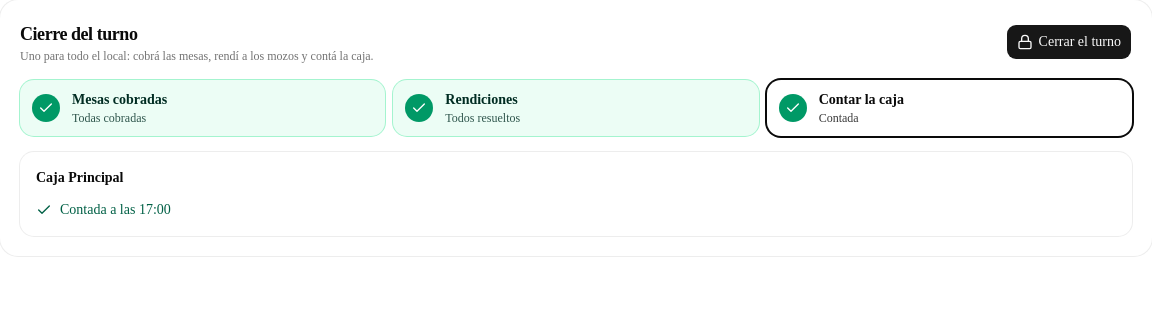
Test case: CierreDelTurno › con todo resuelto › «Cancelar» vuelve atrás sin cerrar
Expected: the text "Todas cobradas" is shown, x1=72 y1=111 x2=146 y2=125
Click the button at (1069, 42), box x1=1006 y1=24 x2=1132 y2=60
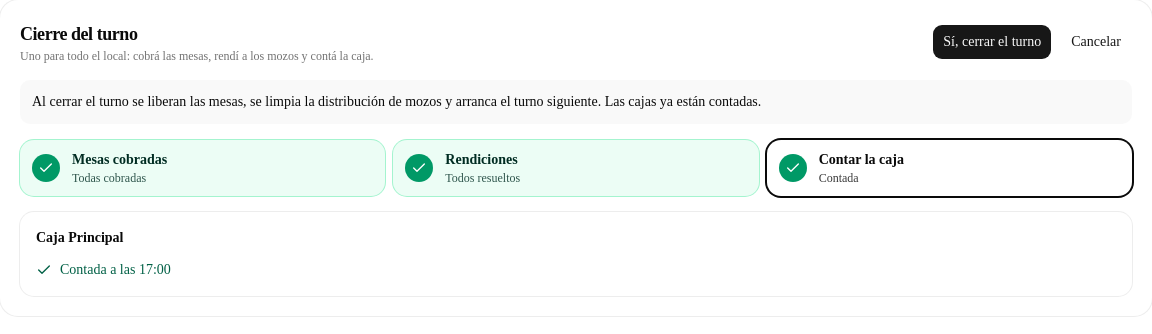
Click the button "Cancelar" at (1096, 42), box x1=1060 y1=26 x2=1132 y2=58
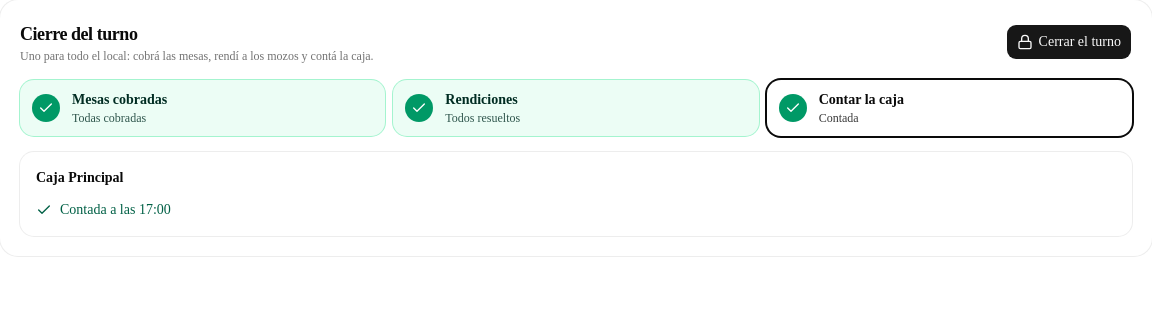
Expected: the button is shown, x1=1006 y1=24 x2=1132 y2=60
Now the text "Al cerrar el turno se liberan las mesas" is gone
